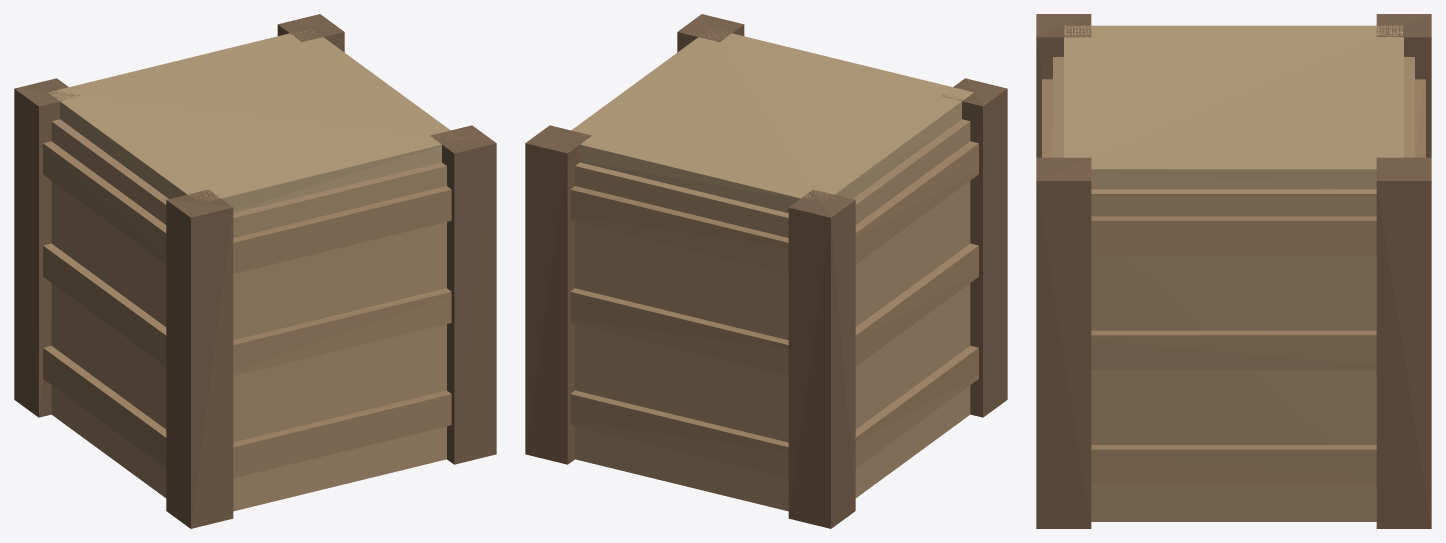
The model's file is crate.glb.
3 renders of one model, left to right at view 1: azimuth 30°, elevation 25°; view 2: azimuth 150°, elevation 25°; view 3: azimuth 270°, elevation 25°, orthographic. The views are drawn at different scales.
Parts seen in each view (by area): view 1: crate; view 2: crate; view 3: crate.
Boxes of the visible parts, x1,y1,x2,y2 form: crate: [14, 14, 496, 528]; crate: [525, 14, 1007, 528]; crate: [1036, 14, 1431, 528].
Bounding box in the file's own units: 0.72 × 0.7 × 0.72.
